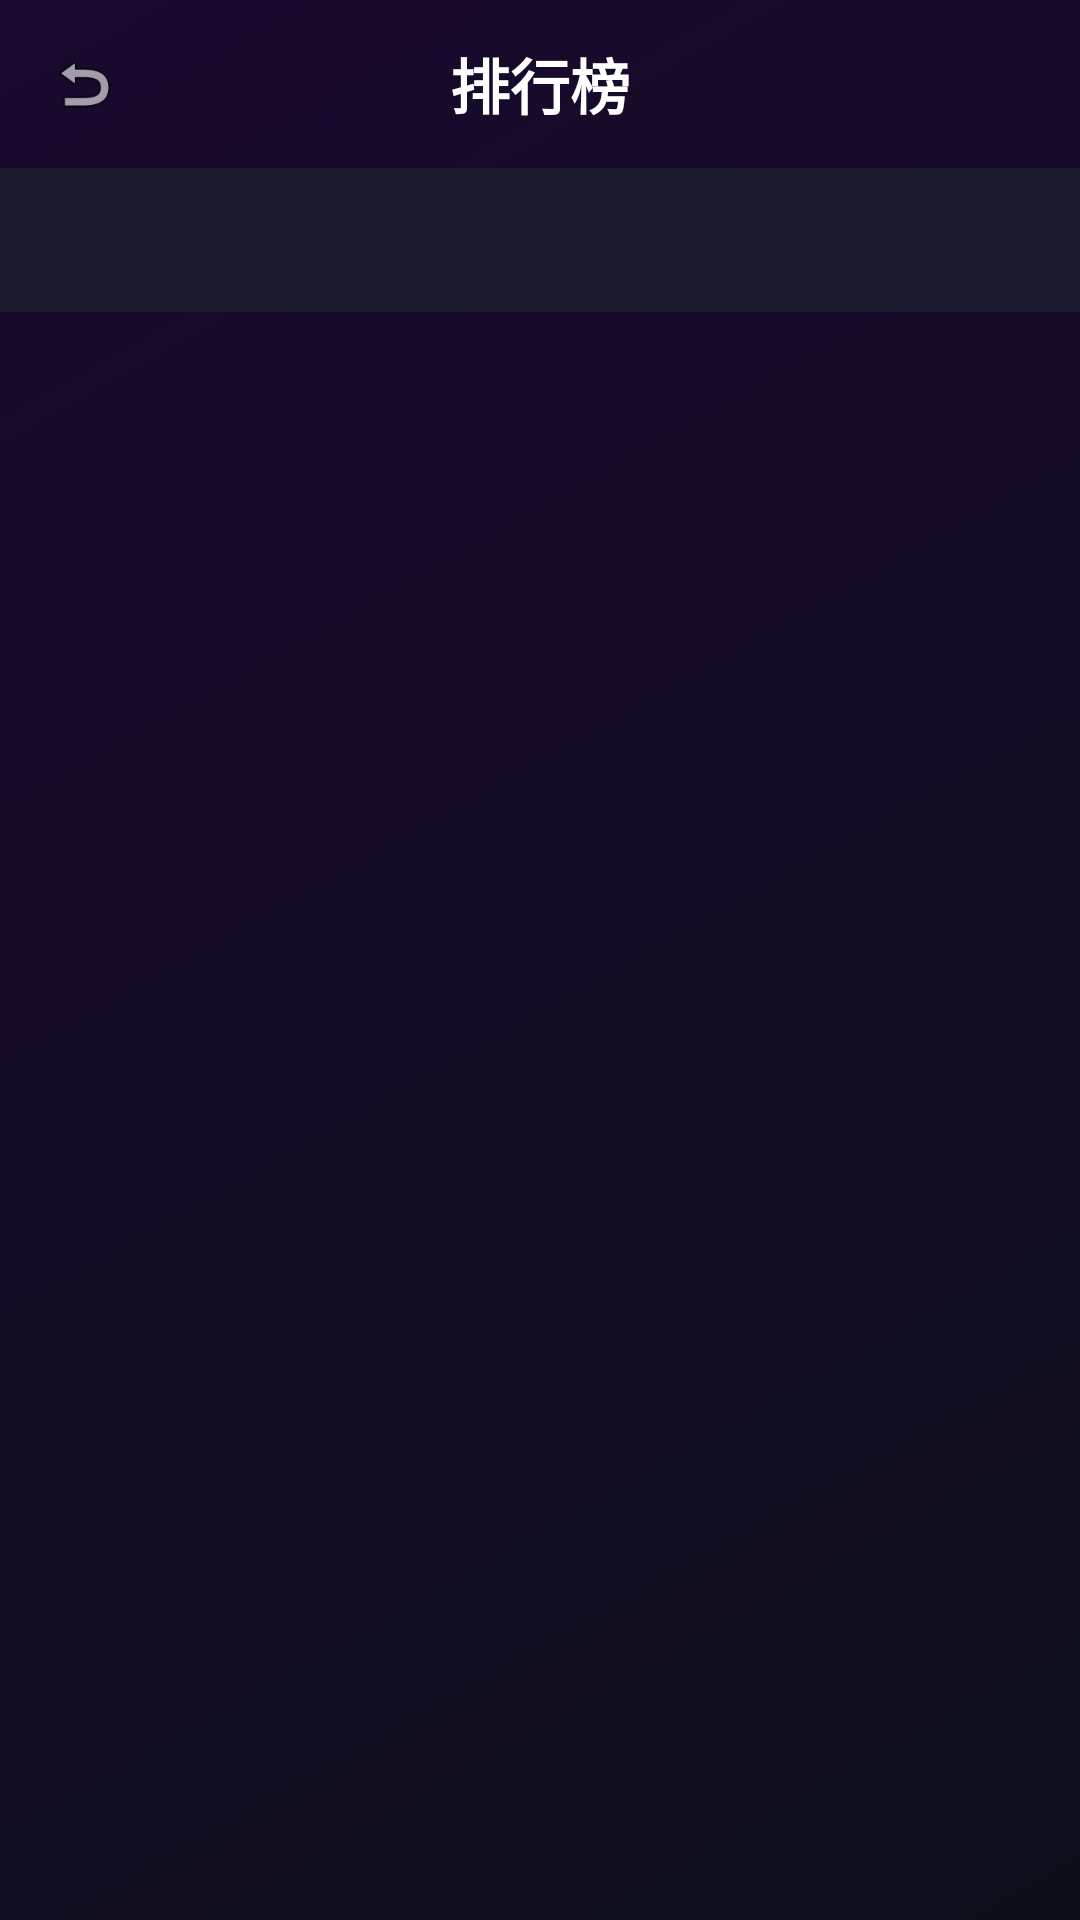

Icon bounding boxes for this 1080 x 1920 phone screenshot, format {"left": x1, "top": y1, "right": x2, "bottom": y2}:
返回: {"left": 61, "top": 63, "right": 109, "bottom": 106}
